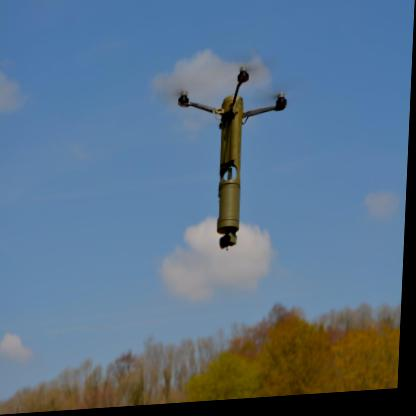UAS: (173, 65, 290, 258)
